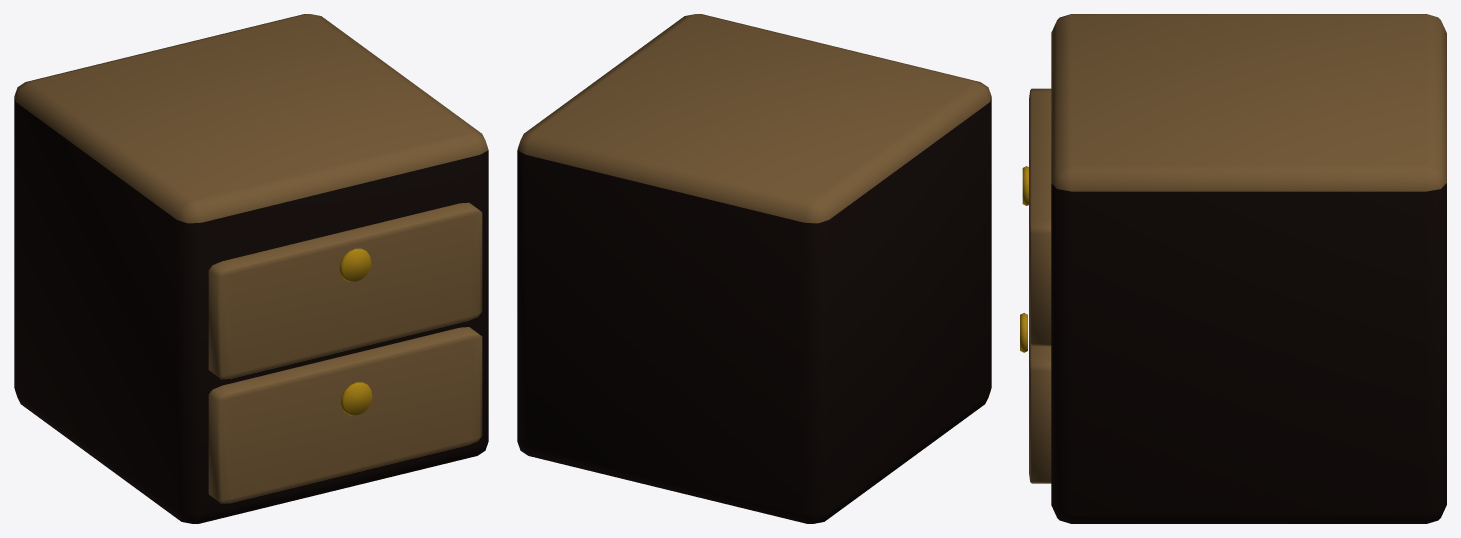
Rendered from Drawers.fbx.
3 renders of one model, left to right at view 1: azimuth 30°, elevation 25°; view 2: azimuth 150°, elevation 25°; view 3: azimuth 270°, elevation 25°, orthographic. The views are drawn at different scales.
Parts seen in each view (by area): view 1: Grill.002, Grill.004, Grill.003, Circle.003, Circle.004; view 2: Grill.002; view 3: Grill.002, Grill.004, Grill.003.
Boxes of the visible parts, box(x1,y1,x2,y2) form: Grill.002: box(14, 14, 488, 523); Grill.004: box(208, 202, 482, 379); Grill.003: box(208, 327, 482, 503); Circle.003: box(340, 382, 372, 415); Circle.004: box(339, 248, 371, 281); Grill.002: box(517, 14, 991, 523); Grill.002: box(1051, 14, 1446, 523); Grill.004: box(1029, 88, 1051, 346); Grill.003: box(1029, 337, 1051, 483).
Bounding box in the file's own units: 100 × 100 × 108.
